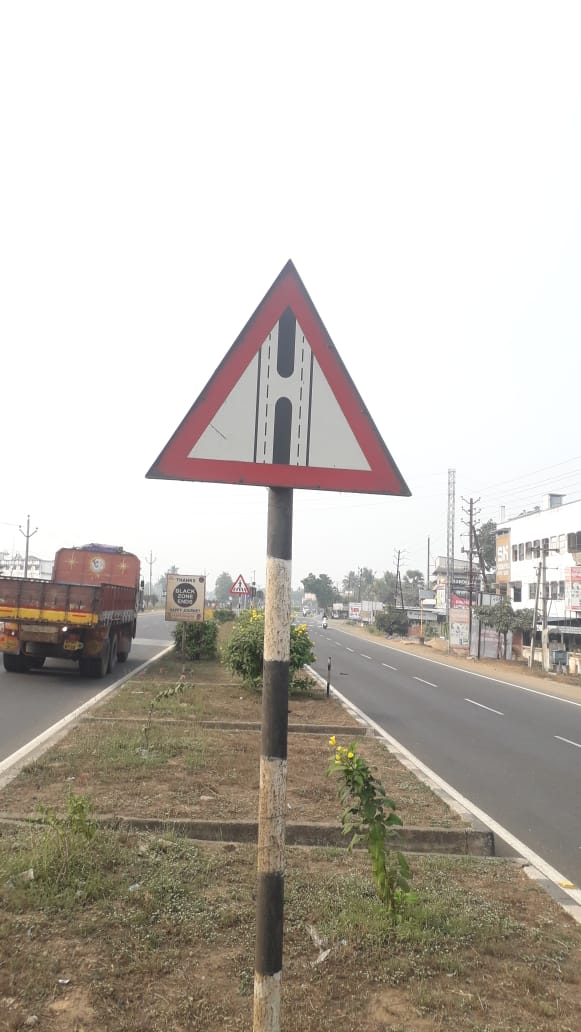highway go straight: (151, 226, 438, 561)
